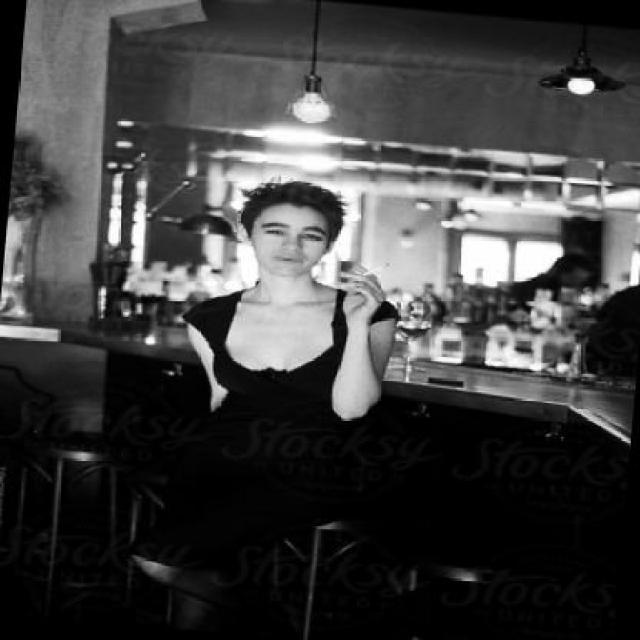cigarette: (354, 259, 396, 281)
